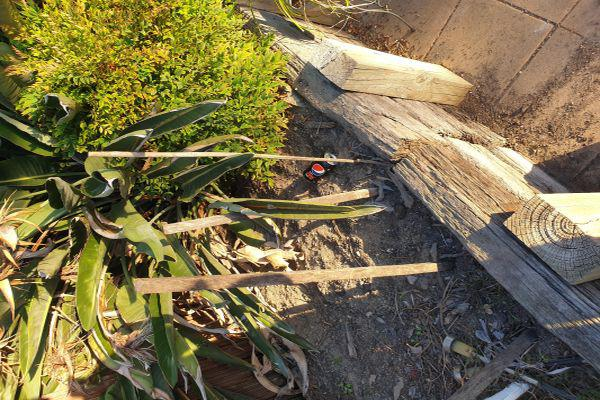Plastic Bottle: (303, 153, 338, 185)
